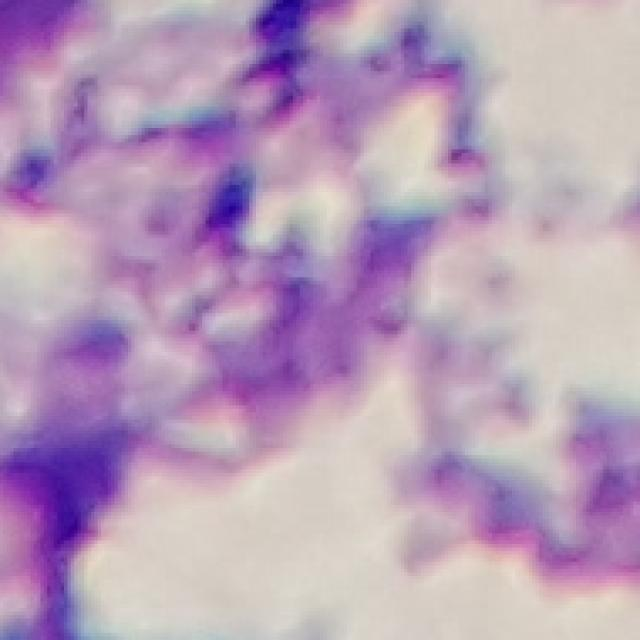non-sperm: (192, 161, 427, 410)
